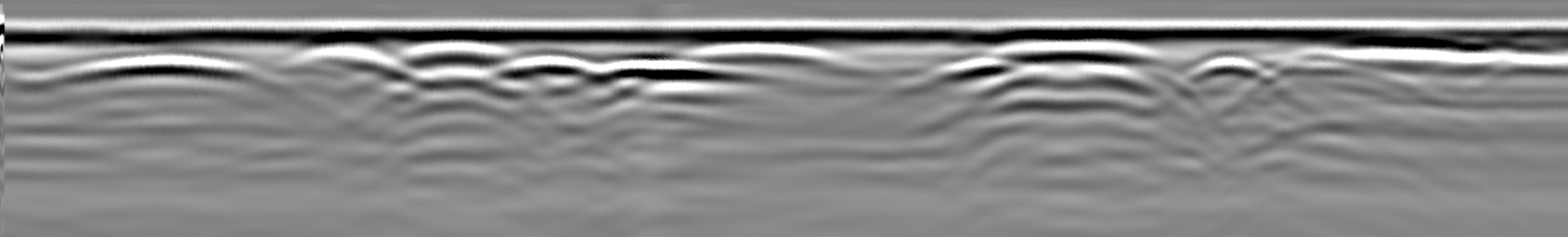pipe: (997, 32, 1148, 64), (692, 34, 831, 63), (286, 31, 392, 61), (408, 34, 503, 63)
steel: (74, 49, 243, 81), (516, 53, 693, 82), (1182, 54, 1277, 84)
